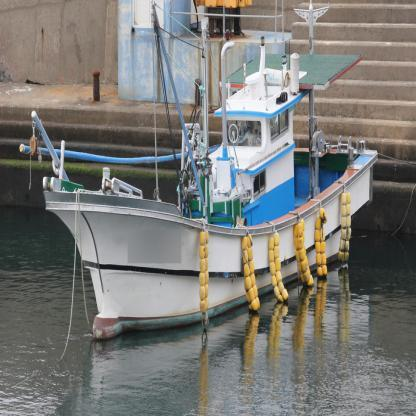Ship: (39, 48, 388, 337)
